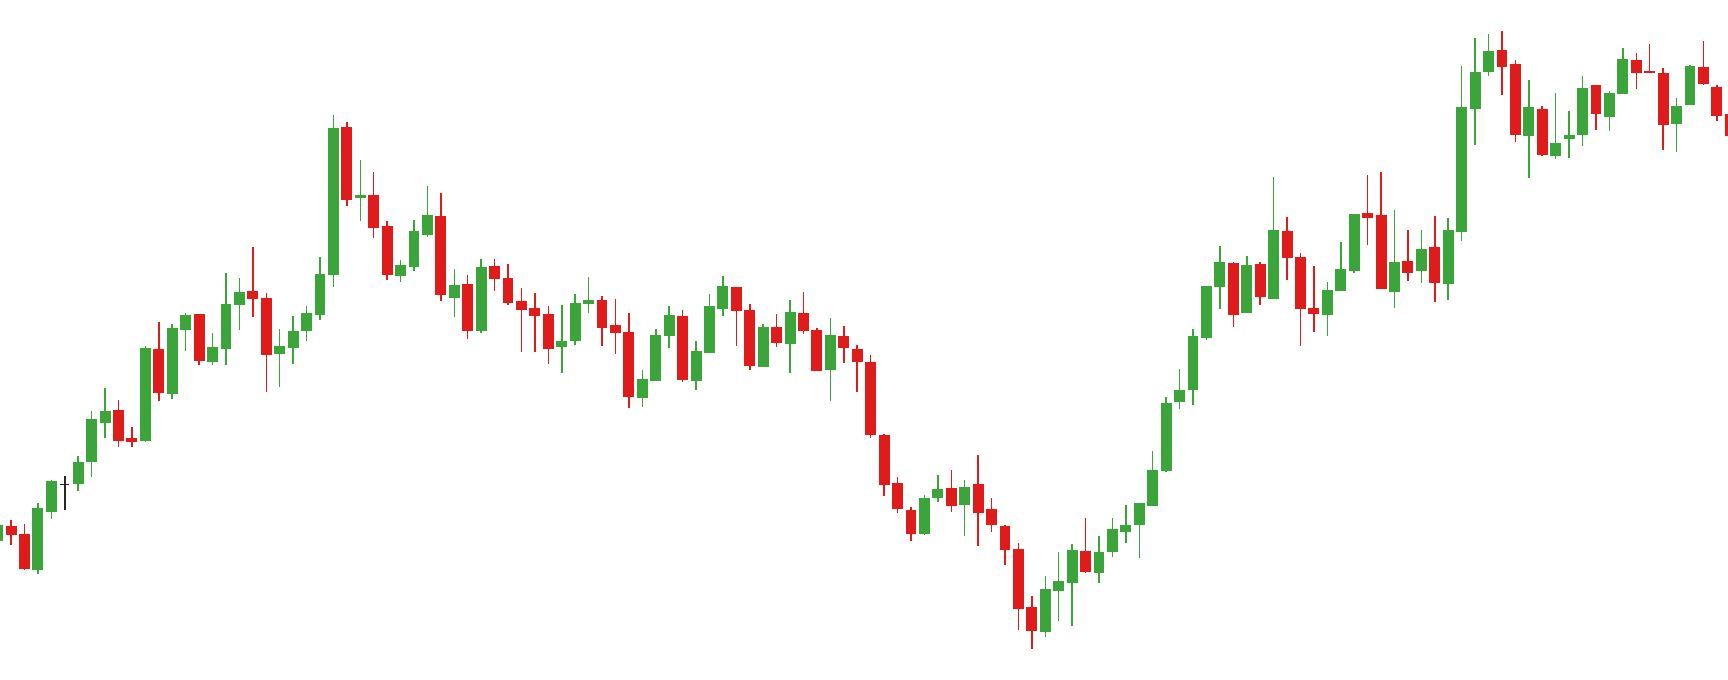buy: (1225, 215, 1335, 348), (217, 295, 287, 399)
sell: (593, 266, 744, 359)
